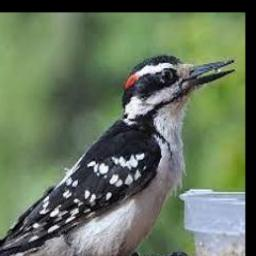Woodpecker: (0, 55, 236, 256)
